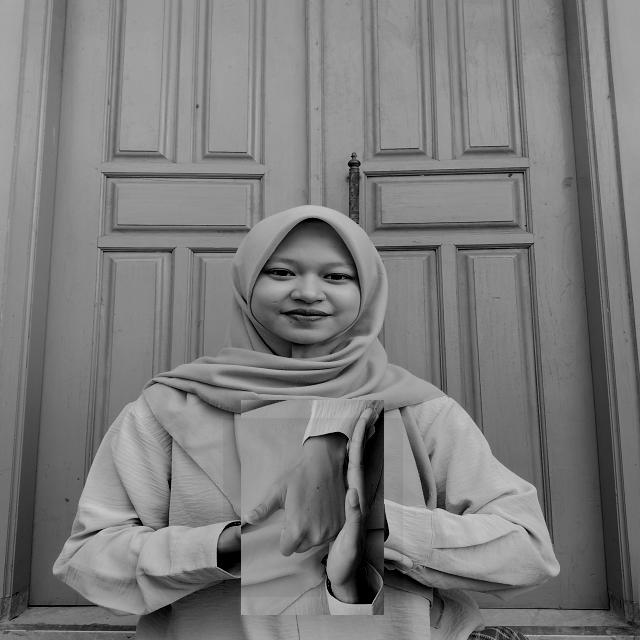cantik: (223, 418, 403, 597)
